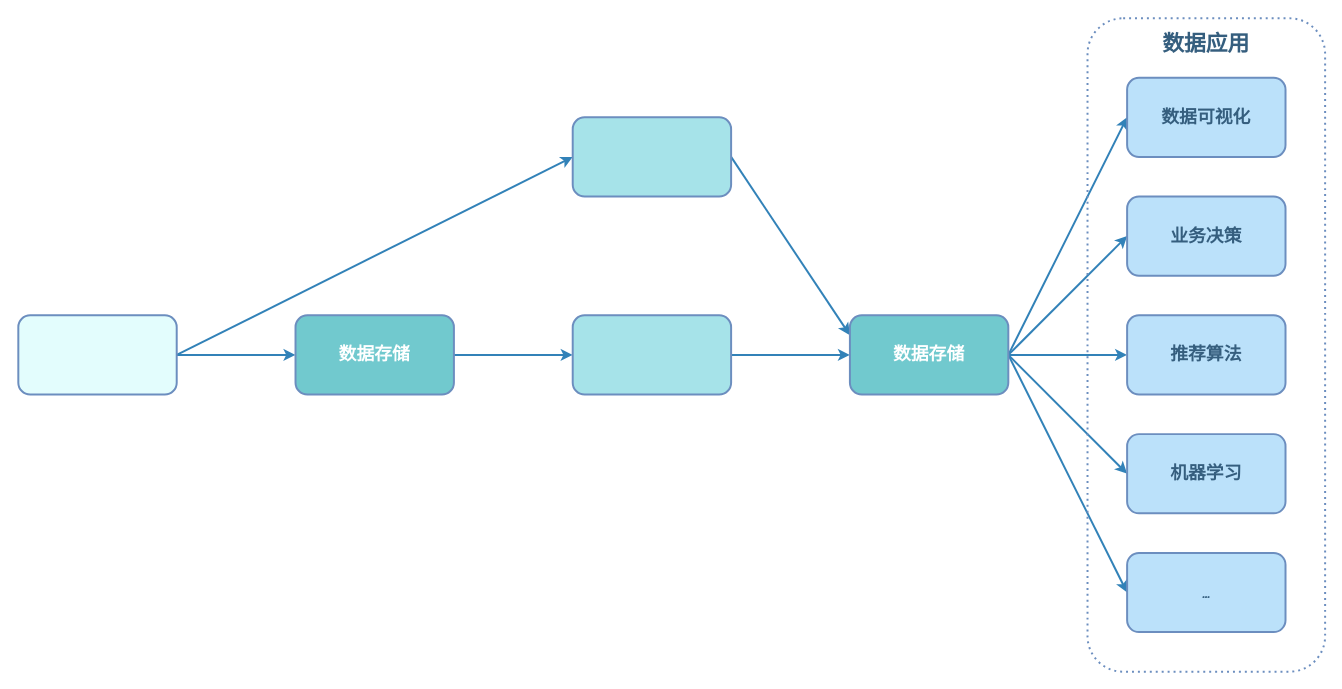
This 1342x689 diagram has some shape labels left out. Each missing label, with the centre of its shape:
"数据批处理" belongs at (651,354).
"数据流处理" belongs at (651,156).
"数据采集" belongs at (97,354).
